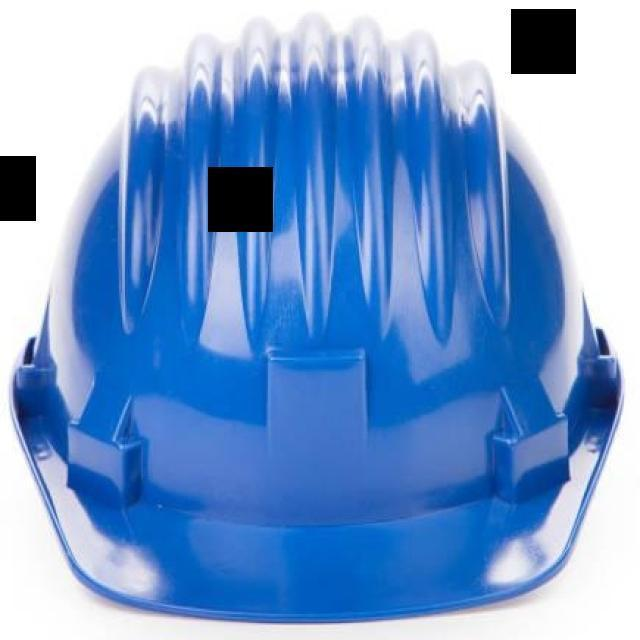blue helmet: (33, 41, 622, 586)
